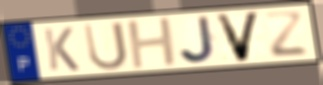H: (125, 15, 180, 71)
J: (177, 14, 220, 66)
K: (41, 26, 81, 72)
U: (81, 20, 130, 72)
V: (213, 10, 263, 64)
Z: (262, 11, 311, 60)
